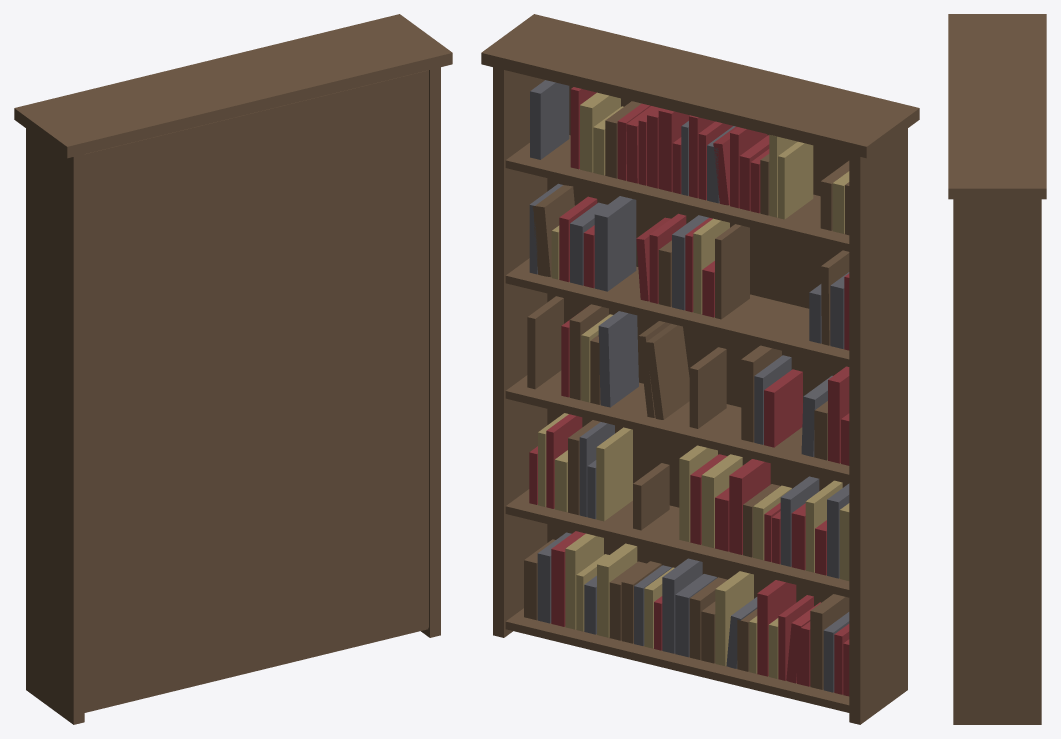
File: Bookshelf.fbx
3 views of the same model, side by side, from view 1: azimuth 30°, elevation 25°; view 2: azimuth 150°, elevation 25°; view 3: azimuth 270°, elevation 25° (orthographic). The views are drawn at different scales.
Parts seen in each view (by area): view 1: Bookshelf; view 2: Bookshelf; view 3: Bookshelf.
Boxes of the visible parts, left/top/right/bottom form: Bookshelf: left=14, top=14, right=452, bottom=724; Bookshelf: left=481, top=14, right=919, bottom=724; Bookshelf: left=948, top=14, right=1046, bottom=724.
Bounding box in the file's own units: 2.1 × 3.03 × 0.5.
